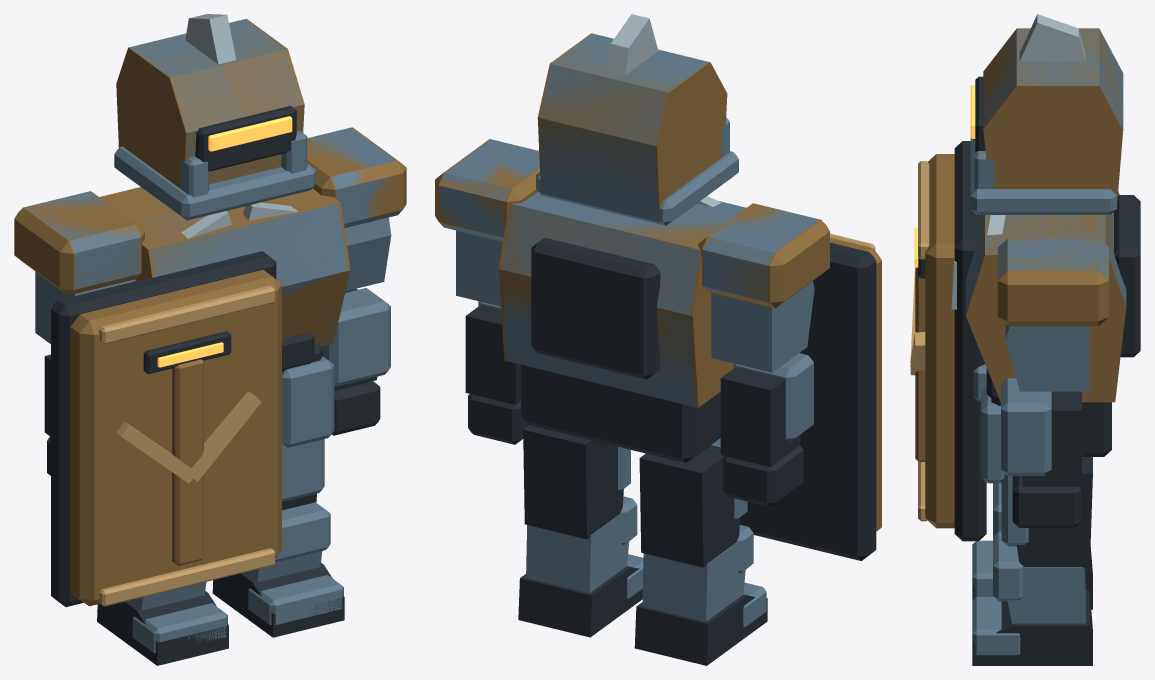
Rendered from actors-guards.glb.
The picture shows the model from 3 angles, left to right: view 1: azimuth 30°, elevation 25°; view 2: azimuth 150°, elevation 25°; view 3: azimuth 270°, elevation 25°; orthographic projection.
Parts seen in each view (by area): view 1: shielder_shield_shell, grunt_head_shell, shielder_head_shell, shielder_shield_dark, shielder_torso_shell, shielder_shield_trim, grunt_torso_shell, shielder_armL_sh_shell, grunt_armR_sh_shell, grunt_armL_sh_shell, grunt_armR_el_shell, grunt_hips_shell (+15 smaller); view 2: shielder_shield_dark, grunt_head_shell, grunt_torso_shell, shielder_head_shell, grunt_torso_dark, grunt_armL_sh_shell, shielder_torso_shell, grunt_hips_dark, grunt_legL_hip_dark, grunt_legR_hip_dark, grunt_armR_sh_shell, shielder_armL_sh_shell (+13 smaller); view 3: shielder_head_shell, shielder_shield_shell, grunt_head_shell, shielder_torso_shell, shielder_shield_dark, grunt_armR_sh_shell, shielder_armR_sh_shell, grunt_legR_knee_shell, grunt_armR_el_shell, grunt_legR_foot_dark, grunt_torso_shell, grunt_torso_dark (+13 smaller).
Part boxes in pixels (left/top/right/bottom): shielder_shield_shell: left=70, top=270, right=281, bottom=606; grunt_head_shell: left=114, top=19, right=315, bottom=220; shielder_head_shell: left=116, top=18, right=304, bottom=188; shielder_shield_dark: left=51, top=251, right=276, bottom=606; shielder_torso_shell: left=99, top=187, right=350, bottom=346; shielder_shield_trim: left=99, top=285, right=275, bottom=606; grunt_torso_shell: left=130, top=203, right=347, bottom=346; shielder_armL_sh_shell: left=14, top=191, right=144, bottom=295; grunt_armR_sh_shell: left=307, top=127, right=398, bottom=290; grunt_armL_sh_shell: left=25, top=191, right=139, bottom=343; grunt_armR_el_shell: left=321, top=288, right=390, bottom=386; grunt_hips_shell: left=282, top=356, right=334, bottom=447; shielder_shield_dark: left=740, top=242, right=876, bottom=560; grunt_head_shell: left=536, top=33, right=738, bottom=225; grunt_torso_shell: left=502, top=192, right=746, bottom=407; shielder_head_shell: left=537, top=33, right=727, bottom=222; grunt_torso_dark: left=531, top=237, right=660, bottom=379; grunt_armL_sh_shell: left=703, top=207, right=819, bottom=372; shielder_torso_shell: left=498, top=204, right=733, bottom=407; grunt_hips_dark: left=521, top=364, right=720, bottom=463; grunt_legL_hip_dark: left=639, top=445, right=740, bottom=567; grunt_legR_hip_dark: left=523, top=425, right=623, bottom=539; grunt_armR_sh_shell: left=440, top=139, right=539, bottom=306; shielder_armL_sh_shell: left=698, top=203, right=829, bottom=308; shielder_head_shell: left=983, top=28, right=1123, bottom=204; shielder_shield_shell: left=915, top=154, right=954, bottom=528; grunt_head_shell: left=970, top=29, right=1123, bottom=214; shielder_torso_shell: left=966, top=191, right=1126, bottom=402; shielder_shield_dark: left=918, top=141, right=986, bottom=541; grunt_armR_sh_shell: left=997, top=239, right=1108, bottom=391; shielder_armR_sh_shell: left=997, top=238, right=1108, bottom=326; grunt_legR_knee_shell: left=993, top=531, right=1085, bottom=623; grunt_armR_el_shell: left=1001, top=378, right=1051, bottom=475; grunt_legR_foot_dark: left=972, top=590, right=1092, bottom=665; grunt_torso_shell: left=966, top=195, right=1126, bottom=313; grunt_torso_dark: left=986, top=195, right=1140, bottom=397.
Size of the model in its own units: 1.35 by 2.09 by 0.7248.
